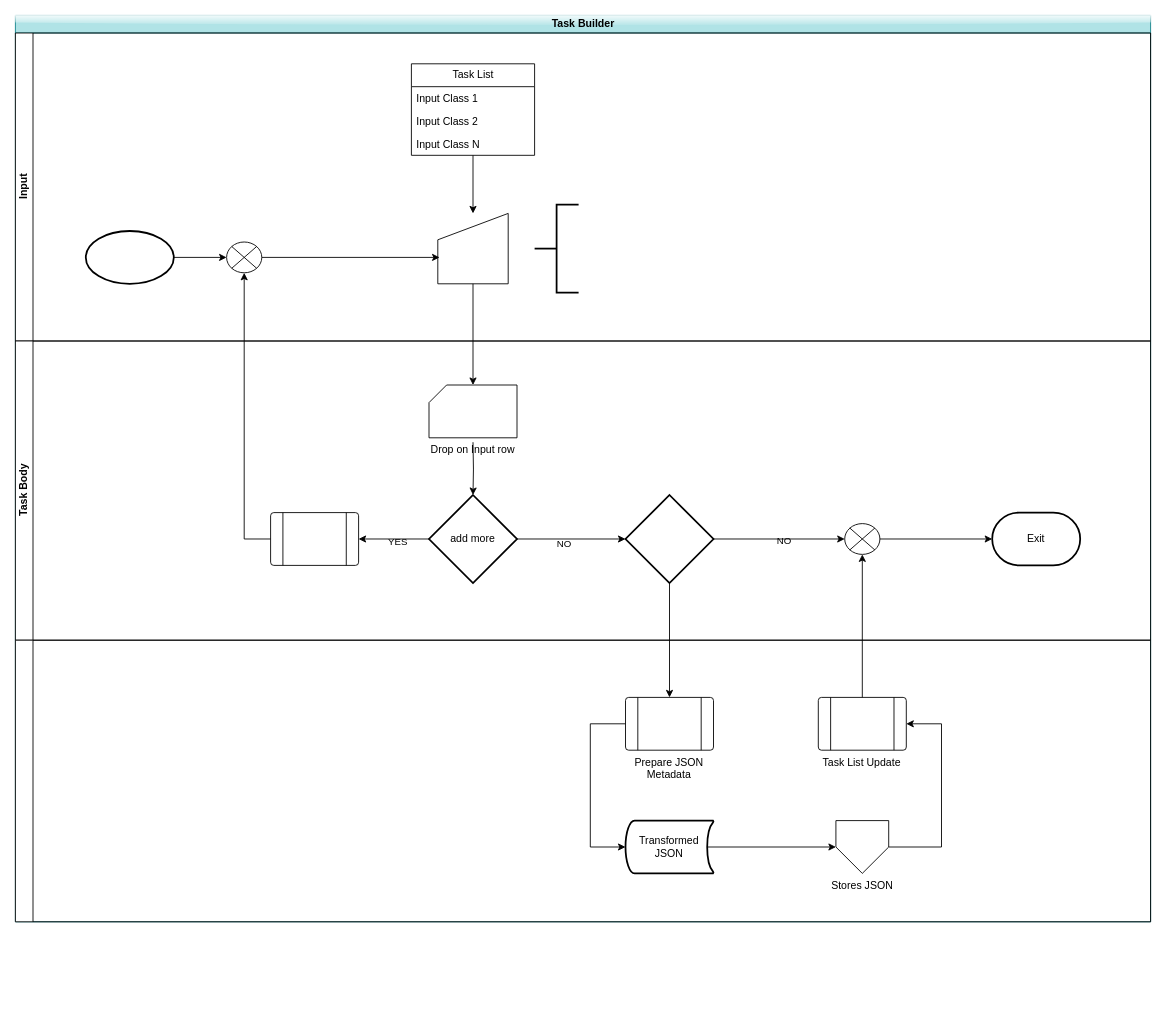
Some shapes in this 1166 by 1025 pixel diagram are drawn without their labels. Each missing label, with the centre of its shape:
"Add New Row" belongs at point 314,538.
"Data Layer" belongs at point 583,780.
"Save" belongs at point 669,538.
"Select Item" belongs at point 472,248.
"Start" belongs at point 129,257.
